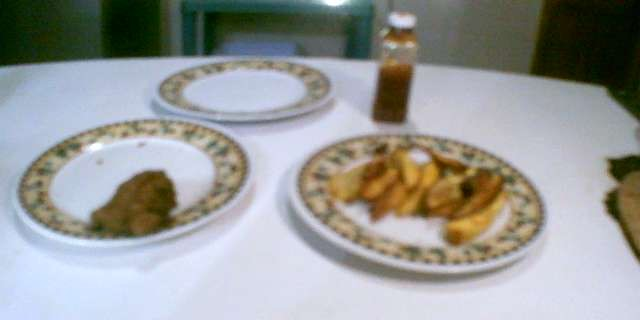chicken: (86, 163, 182, 241)
empty_plate: (150, 54, 338, 128)
ketchup_bottle: (365, 4, 426, 128)
potatoe_fries: (329, 138, 512, 246)
